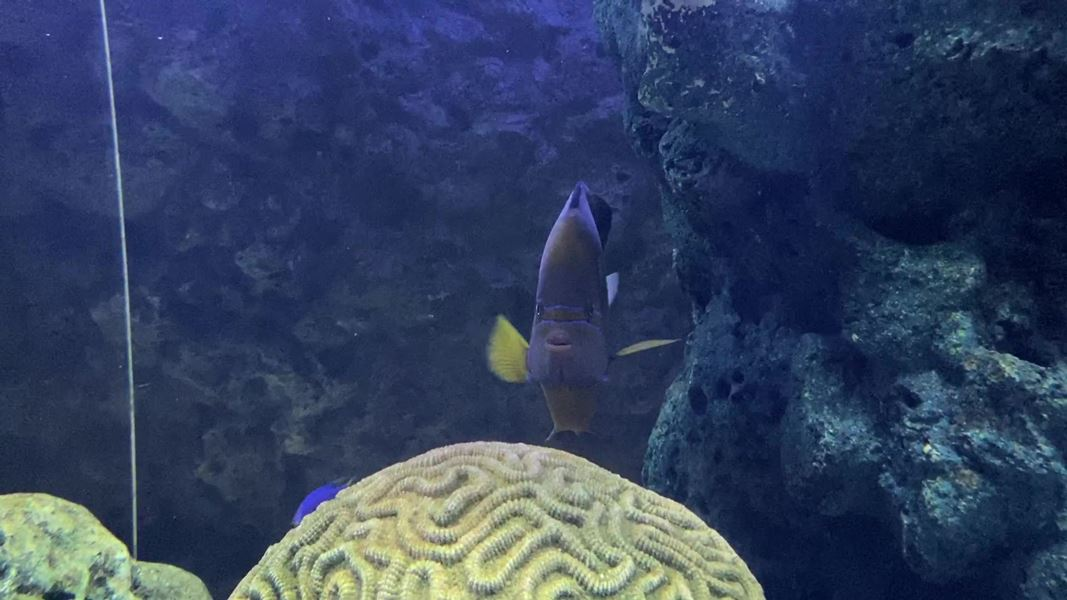Blue ring angelfish: (459, 165, 699, 470)
